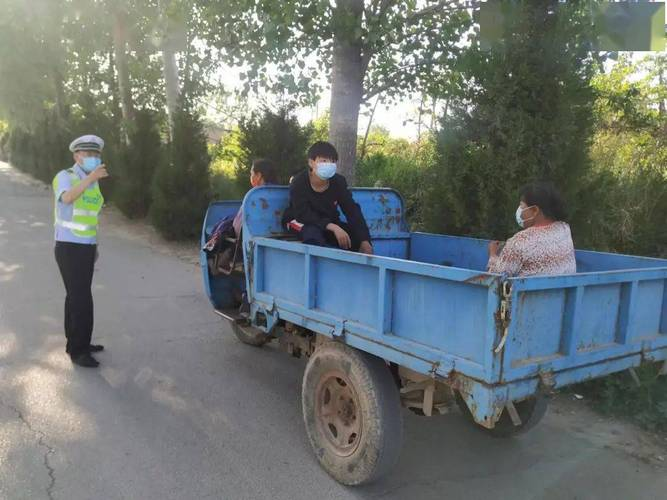driver: (207, 138, 284, 320)
overloading: (191, 98, 655, 436)
passenger: (481, 159, 599, 365), (300, 127, 388, 288)
